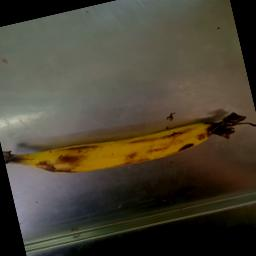Banana Overripe: (3, 88, 256, 195)
